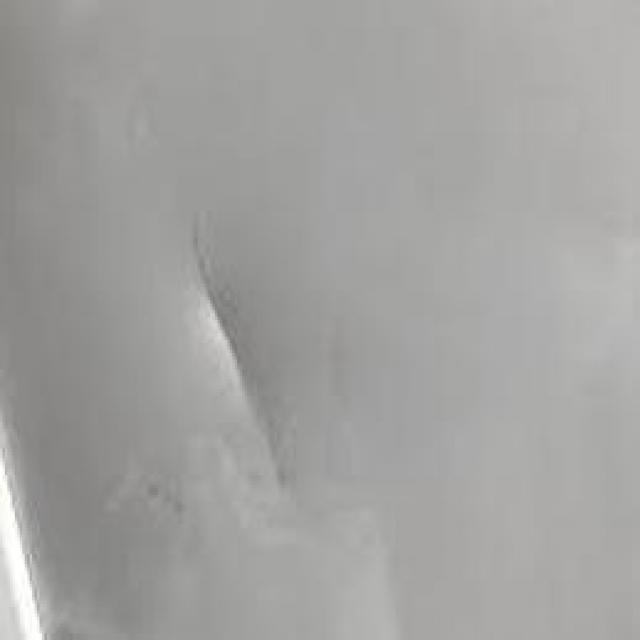dent: (158, 211, 326, 492)
